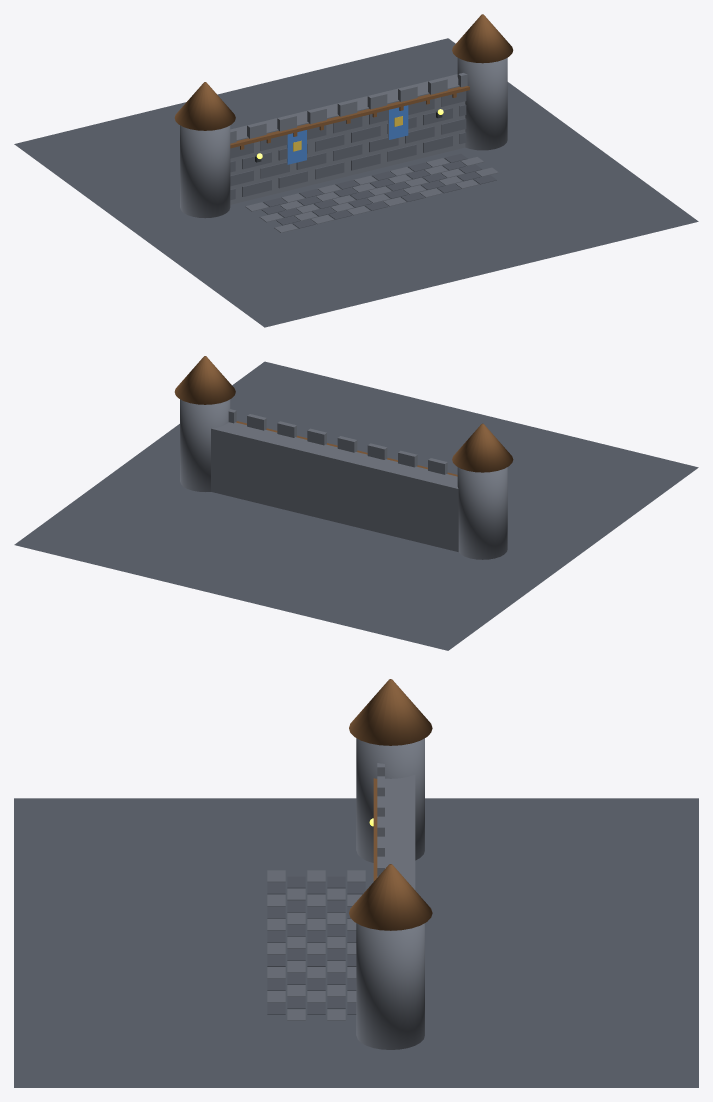
File: defense_fortress.glb
3 views of the same model, one above another, from view 1: azimuth 30°, elevation 25°; view 2: azimuth 150°, elevation 25°; view 3: azimuth 270°, elevation 25° (orthographic). The views are drawn at different scales.
Visible parts, largest first — view 1: Plane, FortressWallBody, Cylinder, Cylinder.001, Cone, Cone.001, Cube.101, Cube.115, Cube.113; view 2: Plane, FortressWallBody, Cylinder, Cylinder.001, Cone, Cone.001; view 3: Plane, Cylinder.001, Cylinder, Cone.001, Cone, FortressWallBody.
Part boxes in pixels (box(x1,y1,x2,y2)): Plane: box(14, 38, 698, 327); FortressWallBody: box(230, 74, 465, 204); Cylinder: box(180, 125, 230, 218); Cylinder.001: box(457, 58, 507, 150); Cone: box(174, 82, 235, 130); Cone.001: box(452, 14, 513, 63); Cube.101: box(230, 86, 469, 148); Cube.115: box(388, 105, 408, 139); Cube.113: box(287, 130, 306, 164); Plane: box(14, 361, 698, 650); FortressWallBody: box(211, 422, 458, 551); Cylinder: box(457, 467, 507, 559); Cylinder.001: box(180, 399, 230, 491); Cone: box(452, 423, 513, 472); Cone.001: box(174, 356, 235, 404); Plane: box(14, 798, 698, 1087); Cylinder.001: box(356, 923, 424, 1049); Cylinder: box(356, 738, 424, 862); Cone.001: box(349, 864, 432, 930); Cone: box(349, 679, 432, 745); FortressWallBody: box(385, 774, 415, 889).
Bounding box in the file's own units: 36 × 9.9 × 36.
